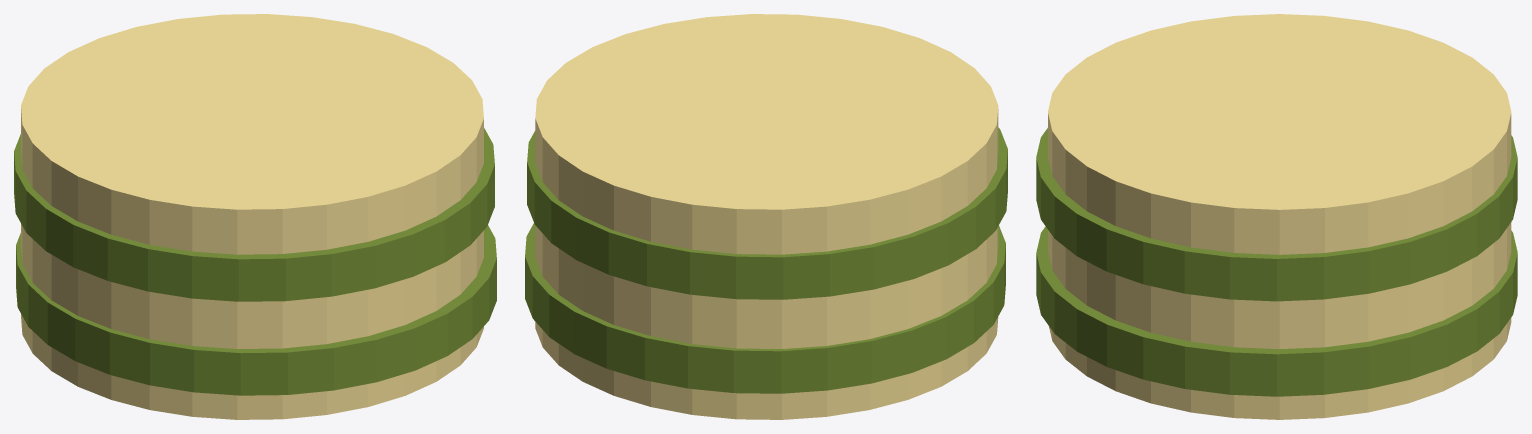
File: bolocilindro limao.glb
3 renders of one model, left to right at view 1: azimuth 30°, elevation 25°; view 2: azimuth 150°, elevation 25°; view 3: azimuth 270°, elevation 25°, orthographic.
Visible parts, largest first — view 1: Cylinder.003, Cylinder.001, Cylinder.000; view 2: Cylinder.003, Cylinder.001, Cylinder.000; view 3: Cylinder.003, Cylinder.000, Cylinder.001.
Part boxes in pixels (x1=…): Cylinder.003: x1=21, y1=14, x2=483, y2=419; Cylinder.001: x1=14, y1=128, x2=494, y2=301; Cylinder.000: x1=16, y1=225, x2=496, y2=395; Cylinder.003: x1=535, y1=14, x2=998, y2=419; Cylinder.001: x1=527, y1=127, x2=1007, y2=299; Cylinder.000: x1=525, y1=223, x2=1005, y2=393; Cylinder.003: x1=1048, y1=14, x2=1511, y2=419; Cylinder.000: x1=1036, y1=226, x2=1517, y2=396; Cylinder.001: x1=1036, y1=128, x2=1517, y2=301.
Bounding box in the file's own units: 2.71 × 1.3 × 2.7.
